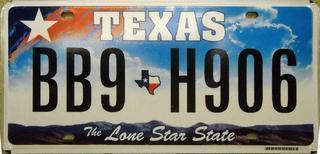placa de veiculo: (10, 3, 310, 147)
